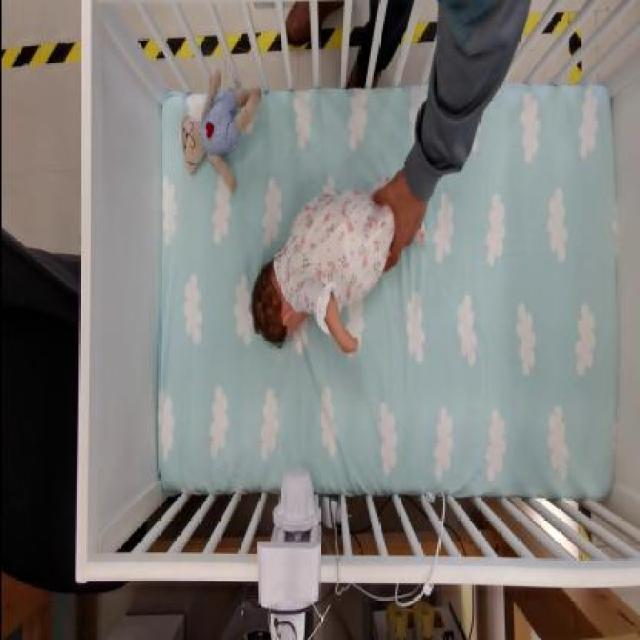baby: (248, 182, 429, 353)
